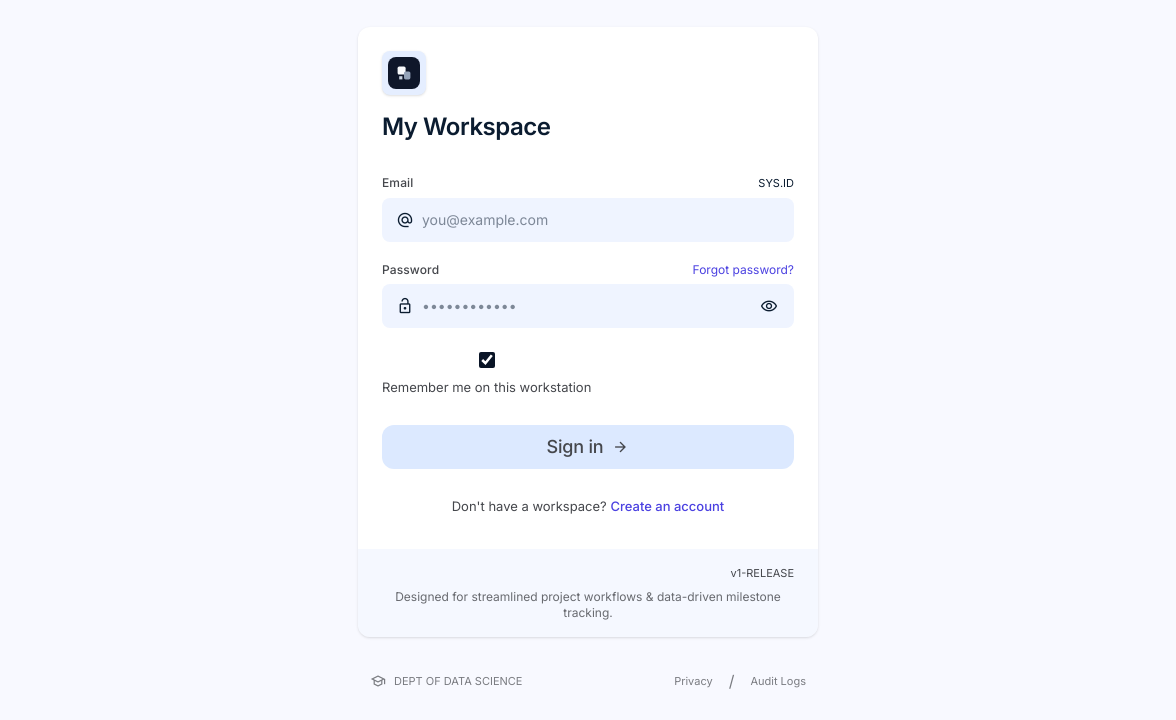
Test: projects › sends the visitor to sign in when creating is unauthorized
Type "ada@example.com" into the field labelled "Email" at (588, 220), box [382, 198, 794, 242]
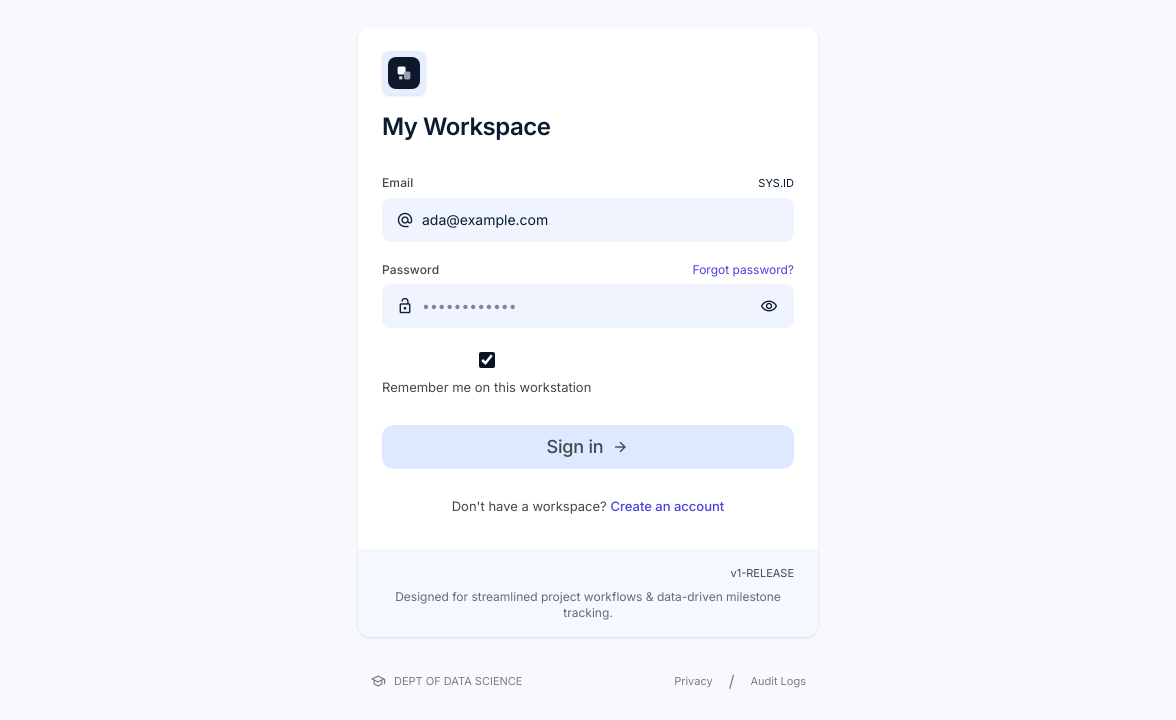
Type "password1" into the password field labelled "Password" at (588, 306), box [382, 284, 794, 328]
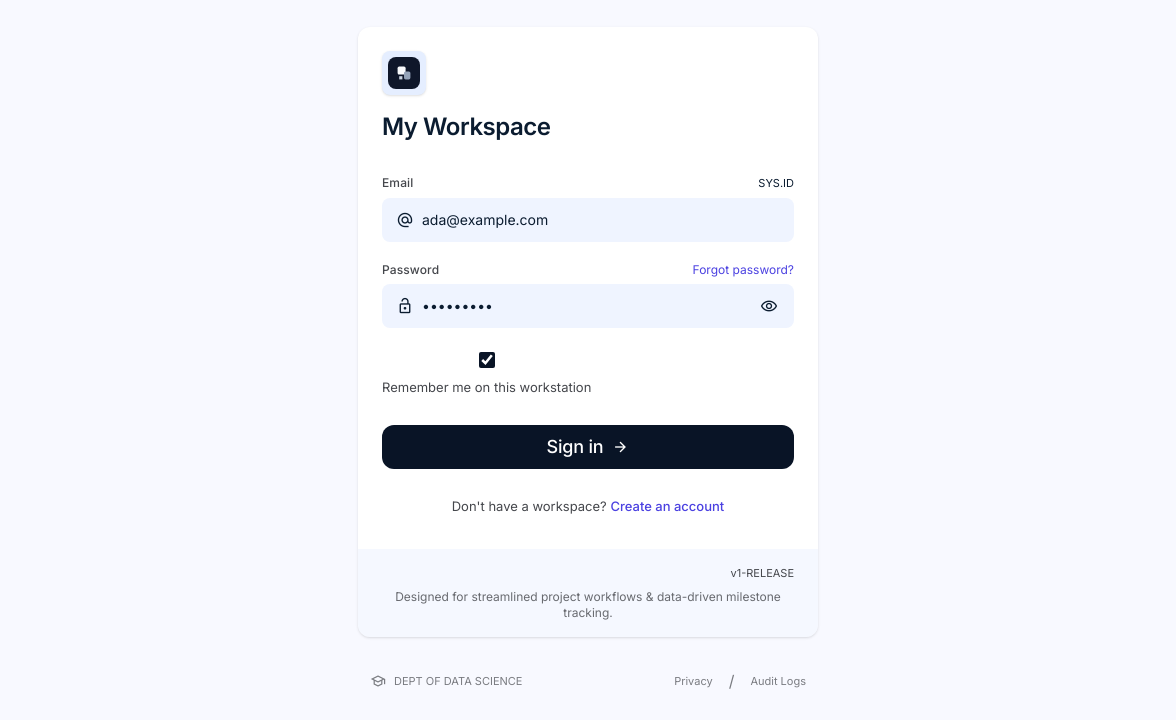
Click the button "Sign in" at (588, 447), box [382, 425, 794, 469]
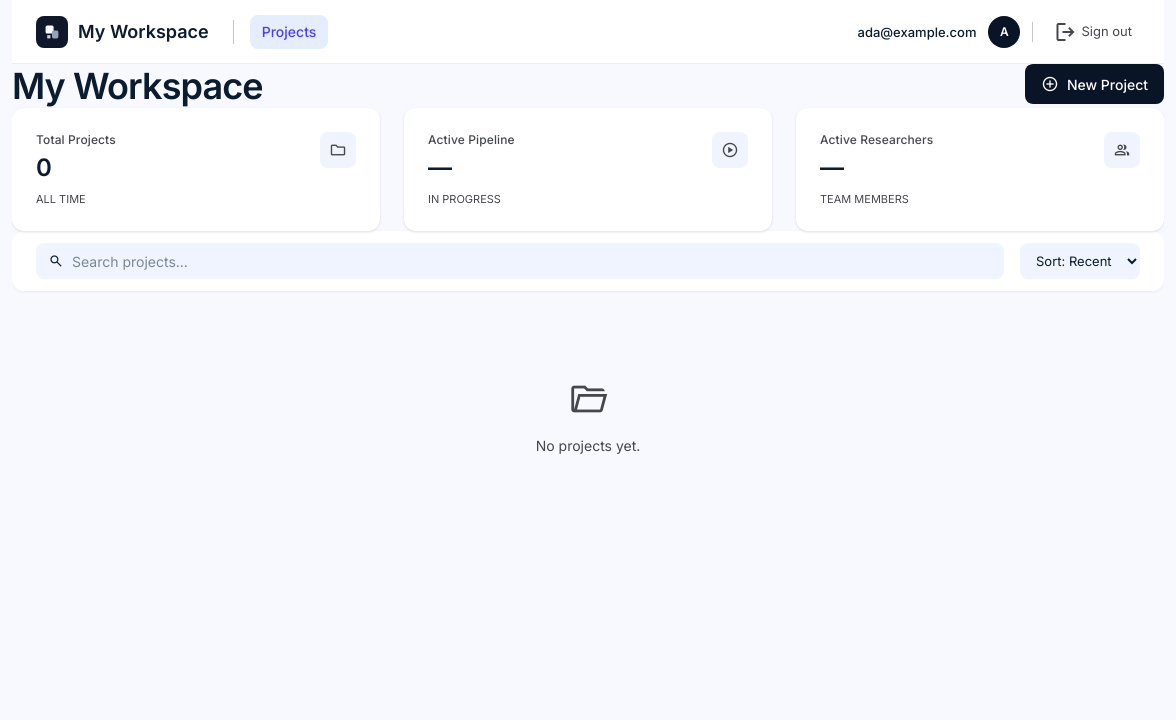
Check: the button "Sign out" is shown, box [1045, 16, 1140, 48]
Click the button "New Project" at (1094, 84), box [1025, 64, 1164, 104]
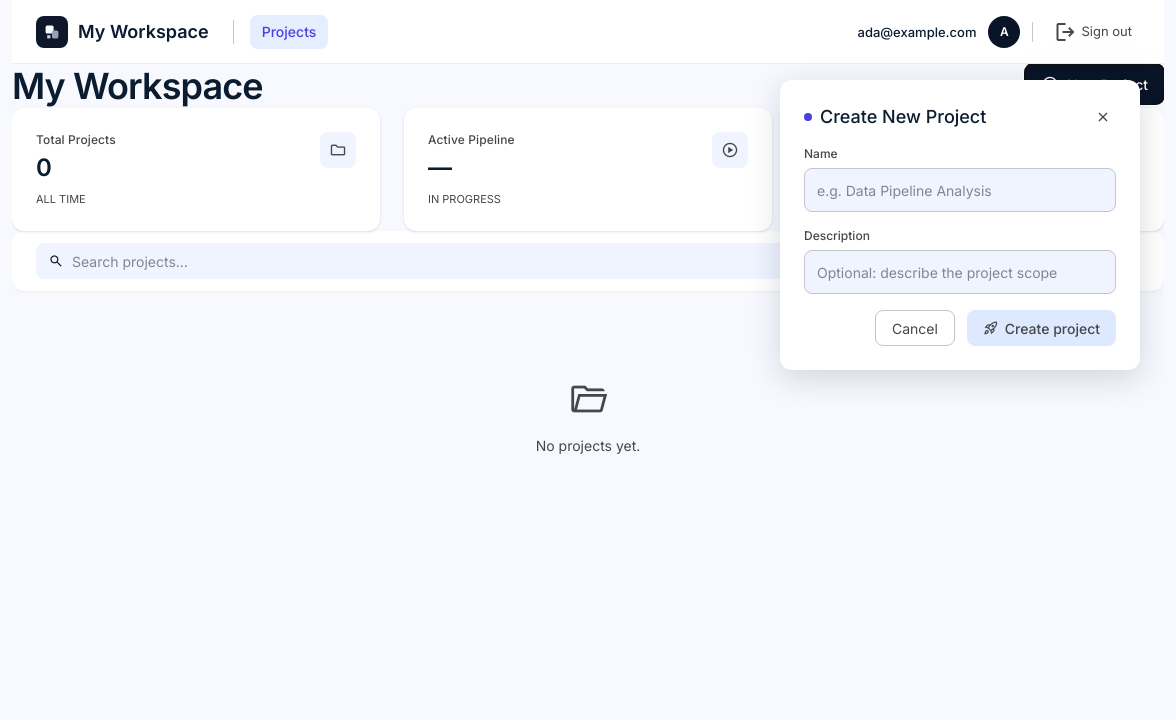
Type "Capstone" into the field labelled "Name" at (960, 190), box [804, 168, 1116, 212]
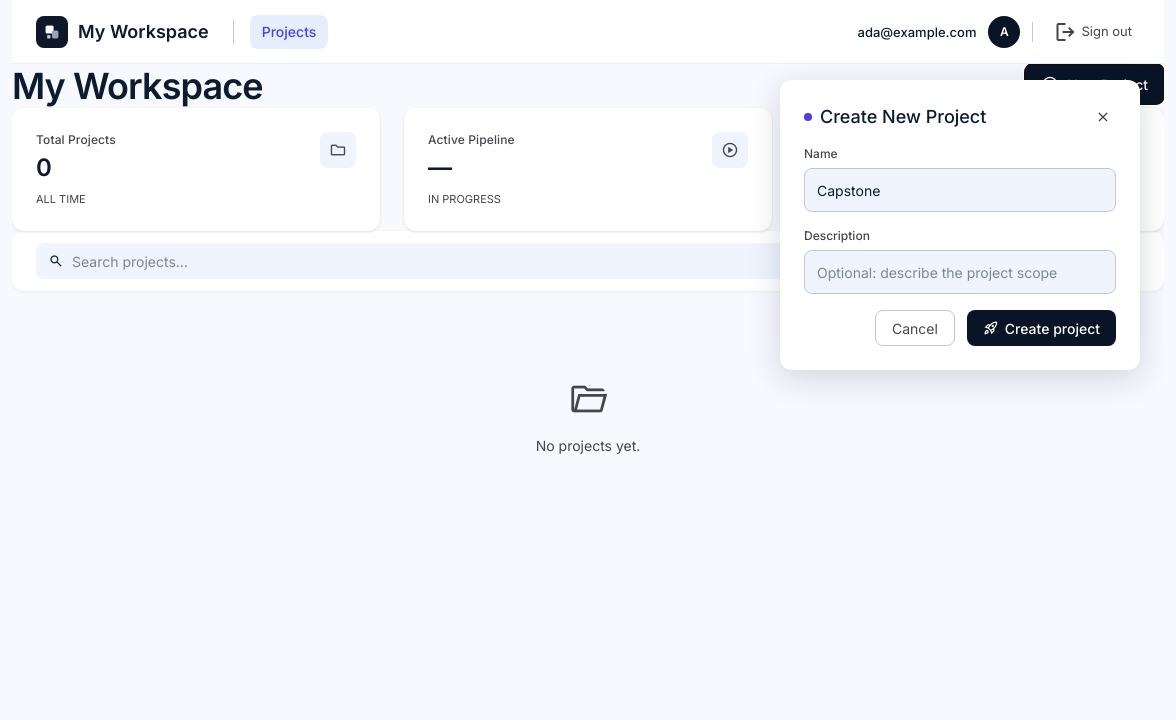
Click the button "Create project" at (1041, 328), box [967, 310, 1116, 346]
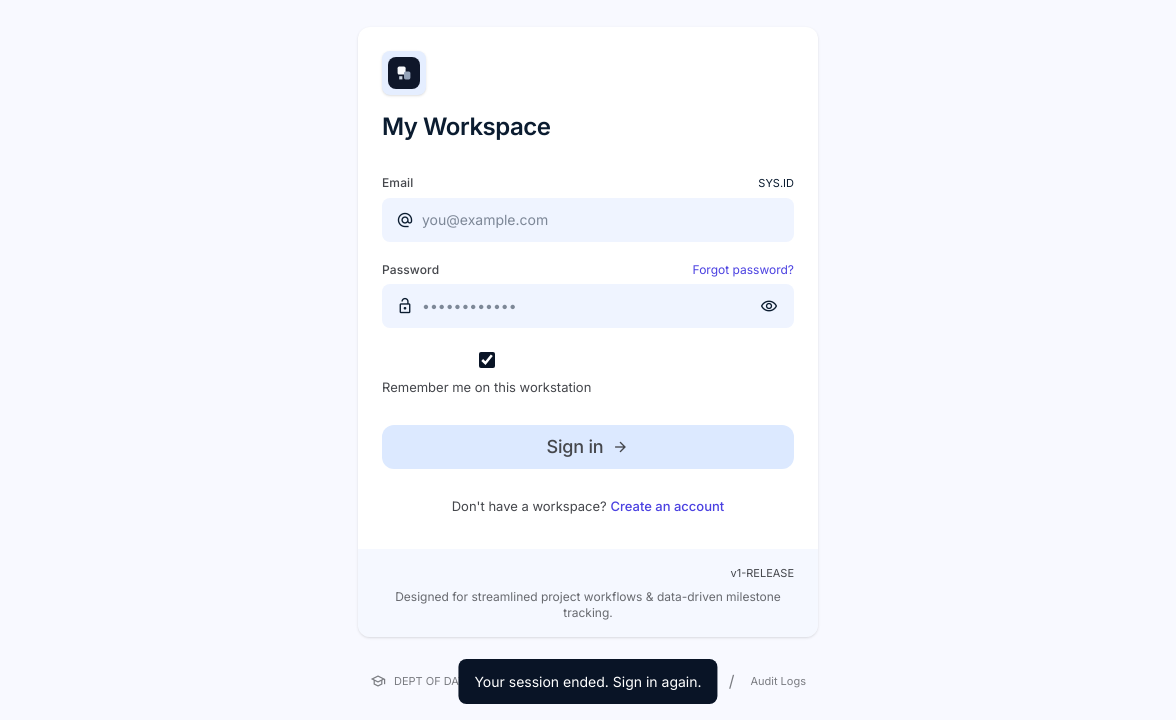
Check: the field labelled "Email" is shown, box [382, 198, 794, 242]
